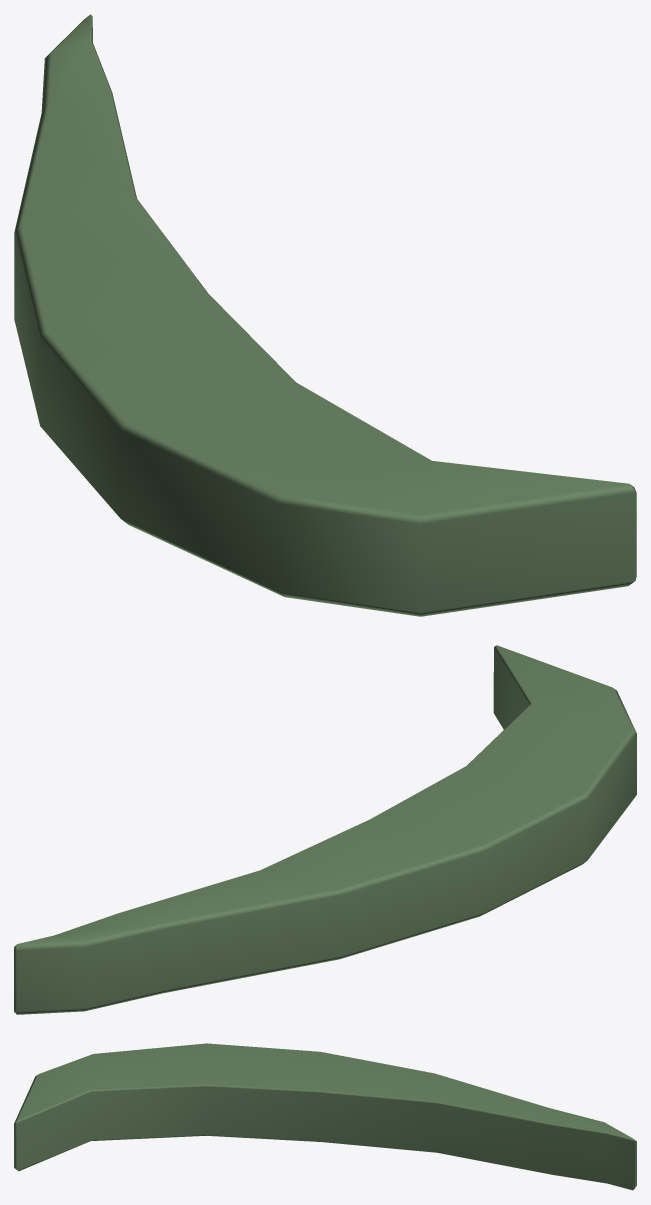
Rendered from Food_Steak_Quater.fbx.
The picture shows the model from 3 angles, top to bottom: view 1: azimuth 30°, elevation 25°; view 2: azimuth 150°, elevation 25°; view 3: azimuth 270°, elevation 25°; orthographic projection. The views are drawn at different scales.
Visible parts, largest first — view 1: Steak_Quater; view 2: Steak_Quater; view 3: Steak_Quater.
Part boxes in pixels (x1,y1,x2,y2): Steak_Quater: (14, 14, 636, 616); Steak_Quater: (14, 645, 636, 1014); Steak_Quater: (14, 1043, 636, 1190).
Size of the model in its own units: 18.38 by 4.51 by 49.4.
